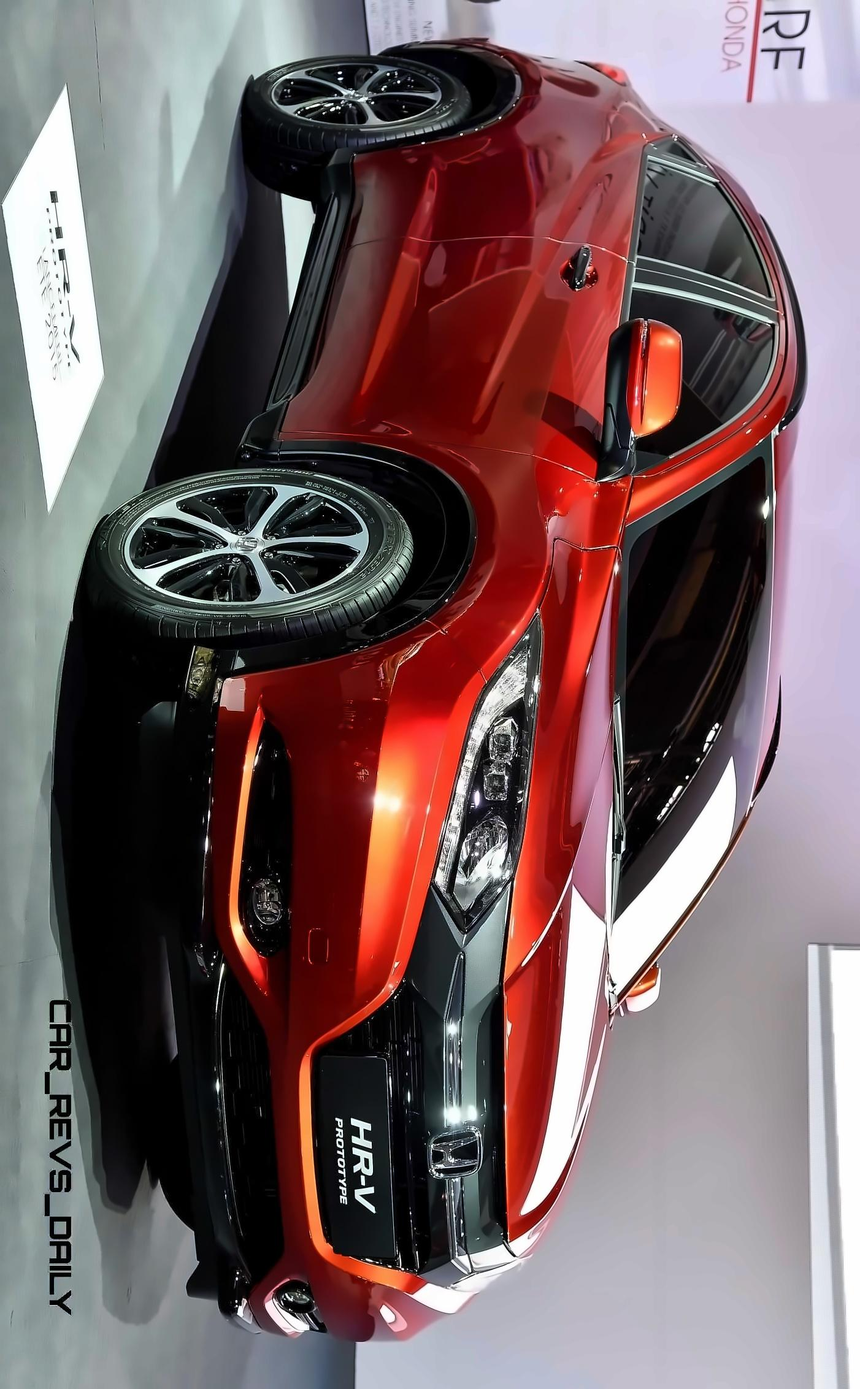Car hood: (489, 524, 629, 1267)
Driver-s door - -F-R-: (254, 229, 802, 524)
Fender - -F-R-: (231, 407, 633, 691)
Front bumper: (121, 606, 531, 1348)
Headlight - -R-: (435, 595, 546, 943)
Passenger-s door - -R-R-: (282, 104, 807, 326)
Side bumper - -R-: (212, 130, 415, 458)
Side mirror - -R-: (601, 299, 687, 486)
